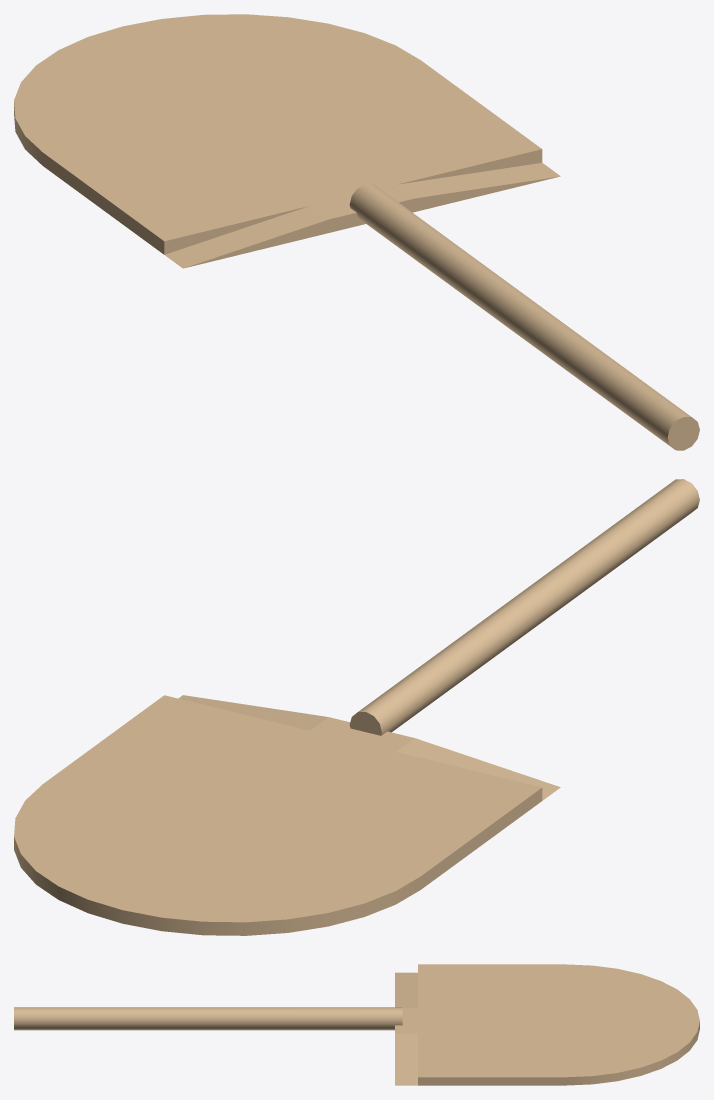
File: pizza-peel-01.glb
The picture shows the model from 3 angles, top to bottom: view 1: azimuth 30°, elevation 25°; view 2: azimuth 150°, elevation 25°; view 3: azimuth 270°, elevation 25°; orthographic projection. The views are drawn at different scales.
Parts seen in each view (by area): view 1: blade, handle; view 2: blade, handle; view 3: blade, handle.
Part boxes in pixels (x1=…): blade: x1=14, y1=14, x2=560, y2=268; handle: x1=349, y1=184, x2=699, y2=450; blade: x1=14, y1=695, x2=560, y2=935; handle: x1=349, y1=479, x2=699, y2=735; blade: x1=395, y1=964, x2=699, y2=1085; handle: x1=14, y1=1007, x2=402, y2=1030.
Size of the model in its own units: 0.35 by 0.03 by 0.9.
